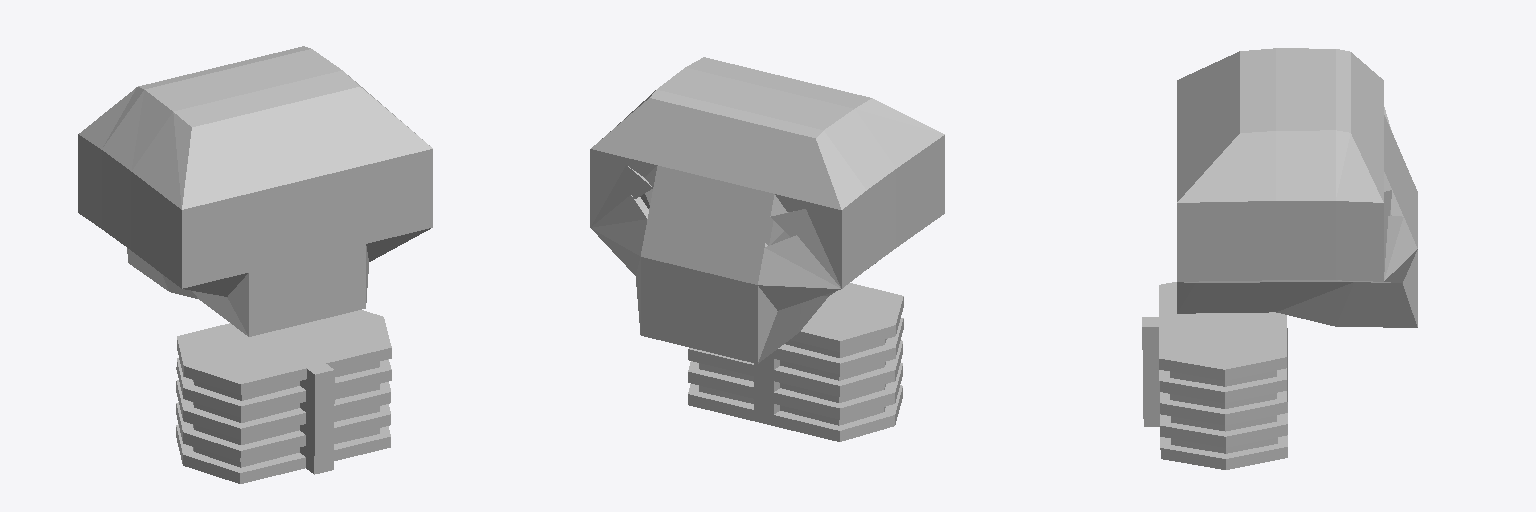
Rendered from Skeleton.obj.
3 renders of one model, left to right at view 1: azimuth 30°, elevation 25°; view 2: azimuth 150°, elevation 25°; view 3: azimuth 270°, elevation 25°, orthographic.
Visible parts, largest first — view 1: Skeleton_Cube.030; view 2: Skeleton_Cube.030; view 3: Skeleton_Cube.030.
Boxes of the visible parts, <box> form: Skeleton_Cube.030: <box>78,46,432,483</box>; Skeleton_Cube.030: <box>590,57,944,441</box>; Skeleton_Cube.030: <box>1142,48,1417,469</box>.
Bounding box in the file's own units: 1.12 × 1.4 × 1.05.